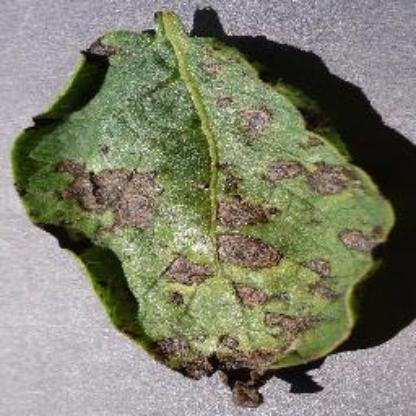Early-Blight: (12, 6, 402, 408)
